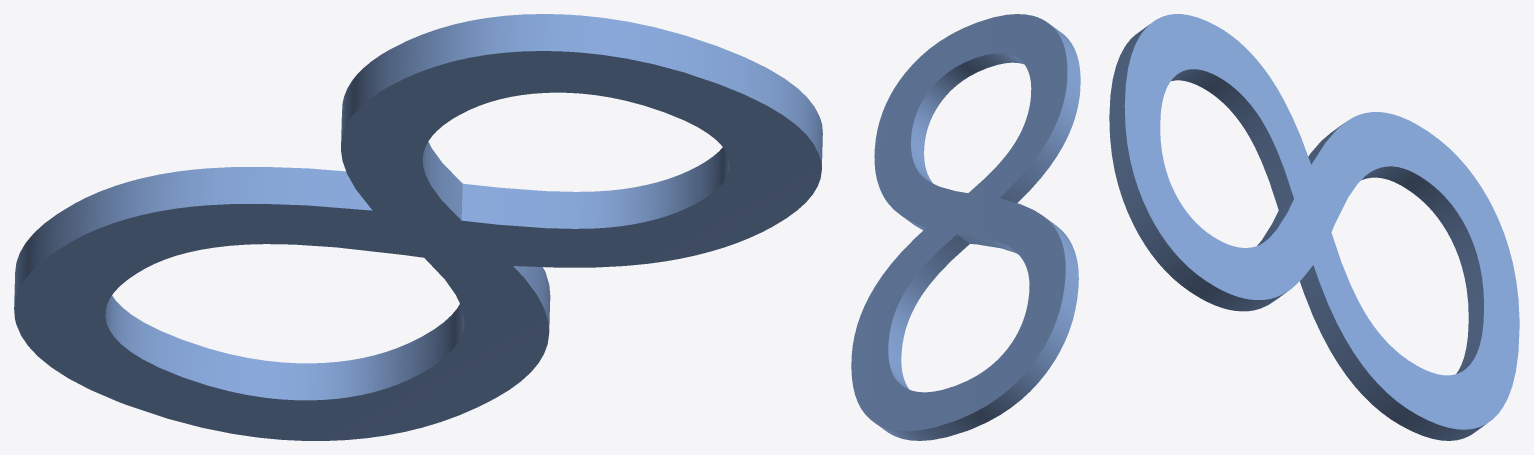
File: New_Number_8.gltf
3 renders of one model, left to right at view 1: azimuth 30°, elevation 25°; view 2: azimuth 150°, elevation 25°; view 3: azimuth 270°, elevation 25°, orthographic. The views are drawn at different scales.
Parts seen in each view (by area): view 1: Part 377; view 2: Part 377; view 3: Part 377.
Part boxes in pixels (x1,y1,x2,y2): Part 377: (14, 14, 822, 440); Part 377: (851, 14, 1080, 440); Part 377: (1109, 14, 1519, 440).
Bounding box in the file's own units: 0.00427 × 0.00445 × 0.00422.
